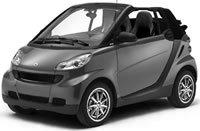car: (1, 1, 200, 131)
